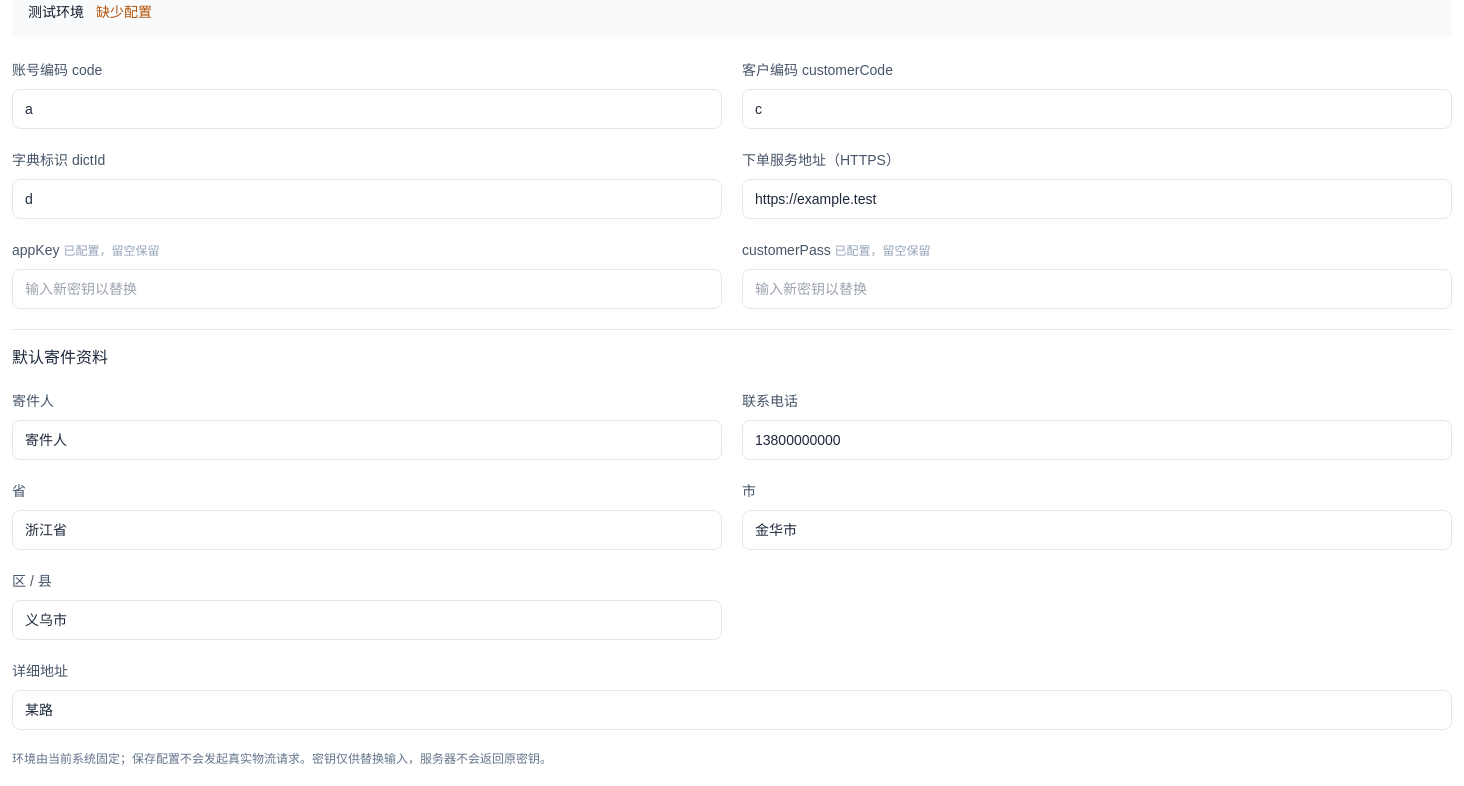
Test: logistics configuration forms › renders blank password inputs and omits unchanged secrets from the submitted payload
(page scrolled)
Expected: the password field named "appKey" is empty, x1=12 y1=269 x2=722 y2=309
Submit the form
Replace the text in the field named "account-code" with "new" at {"x": 367, "y": 109}, box x1=12 y1=89 x2=722 y2=129
(page scrolled)
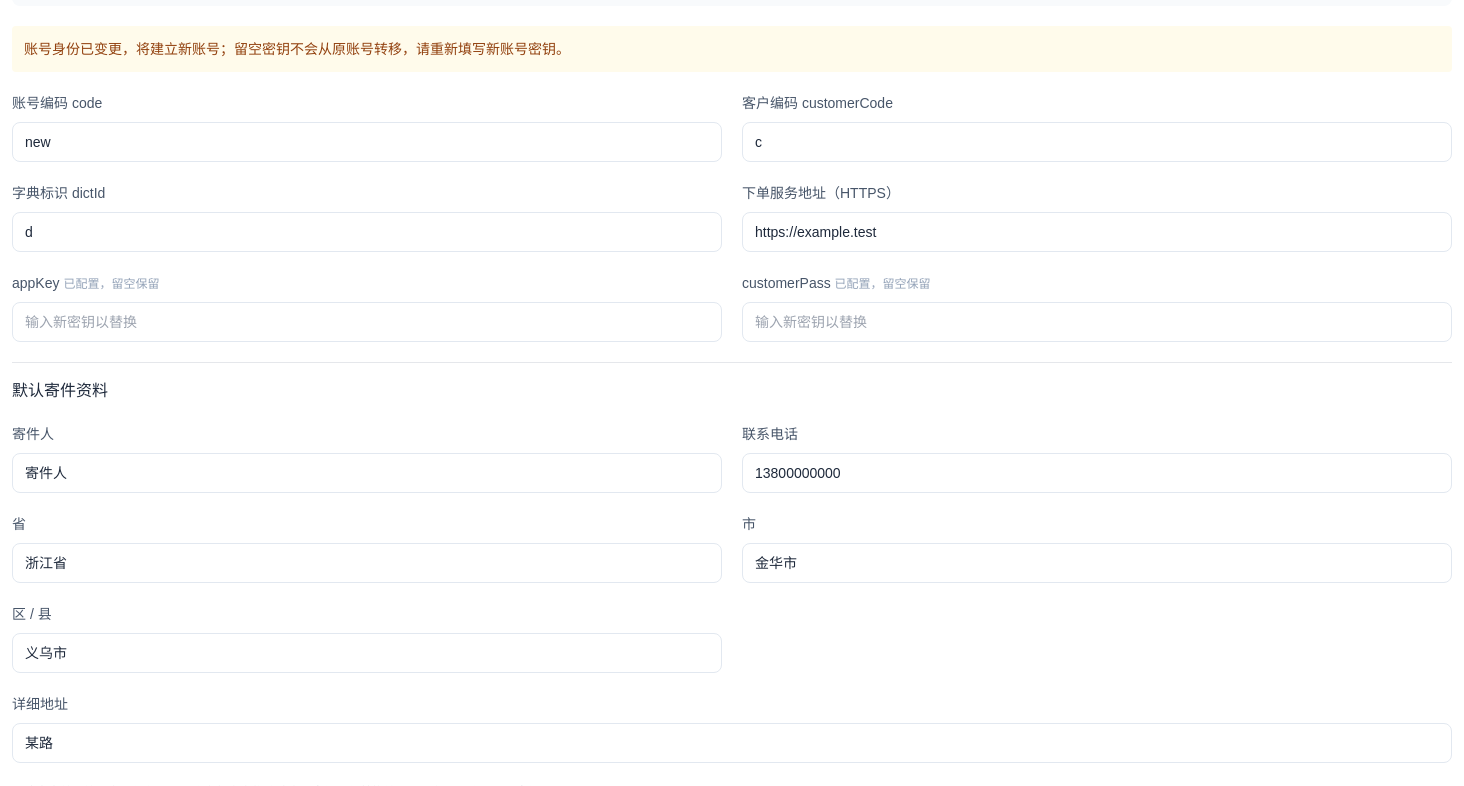
Expected: the form shows "账号身份已变更", x1=24 y1=41 x2=570 y2=57
